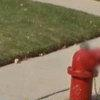Hydrant: (58, 34, 100, 100)
